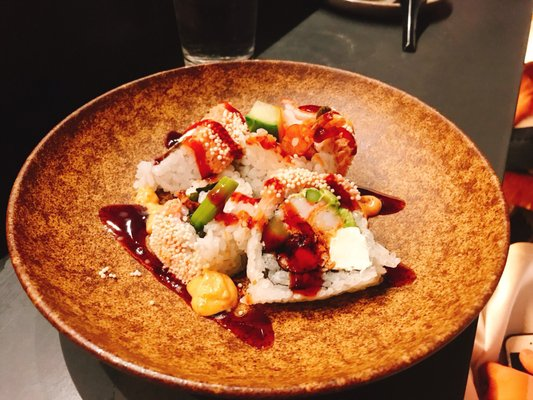pizza: (173, 0, 258, 66)
